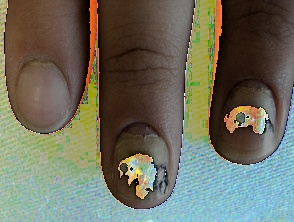SJS-TEN: (208, 73, 290, 163), (108, 126, 173, 205)
